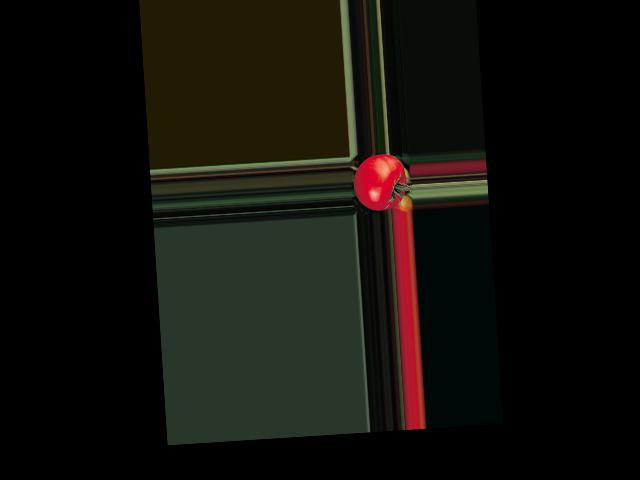tomato: (351, 152, 407, 211)
